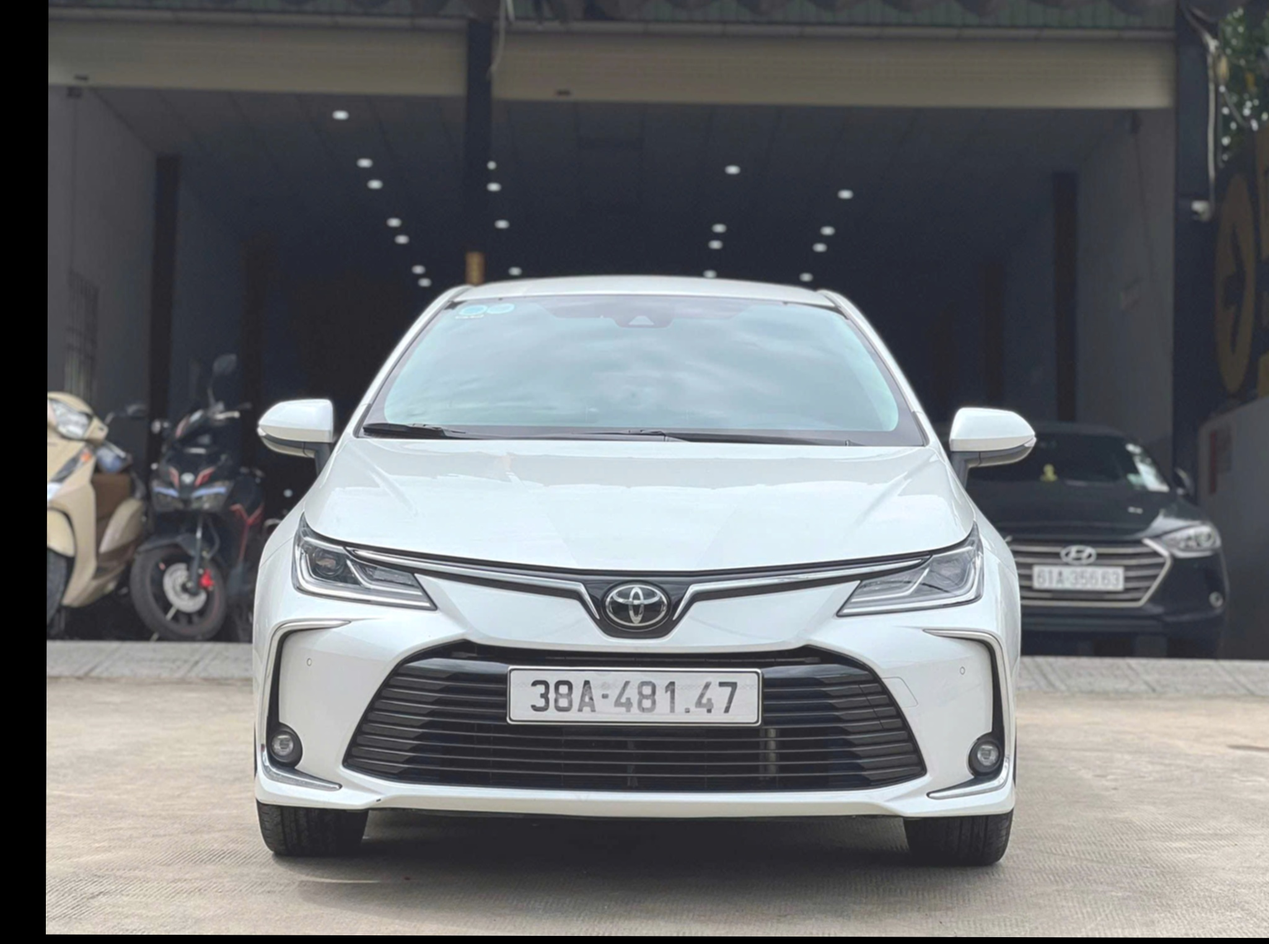Bien-so: (500, 664, 769, 730), (1032, 562, 1128, 591)
